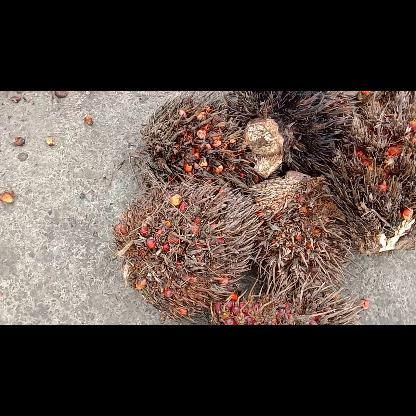Terlalu masak: (113, 176, 257, 318), (324, 91, 416, 251), (249, 171, 357, 283), (141, 91, 252, 187), (226, 91, 352, 175), (210, 272, 362, 324)
